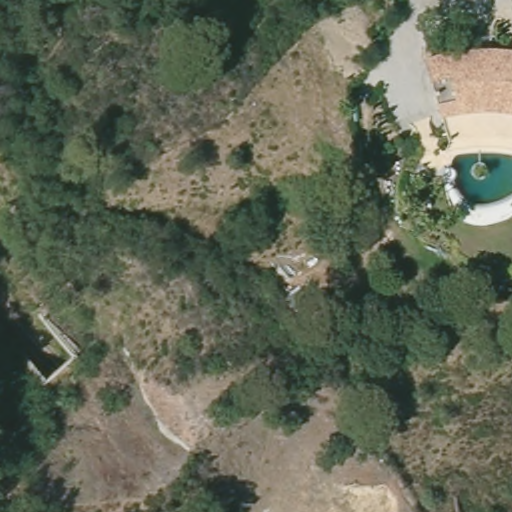pool: (446, 149, 512, 202)
